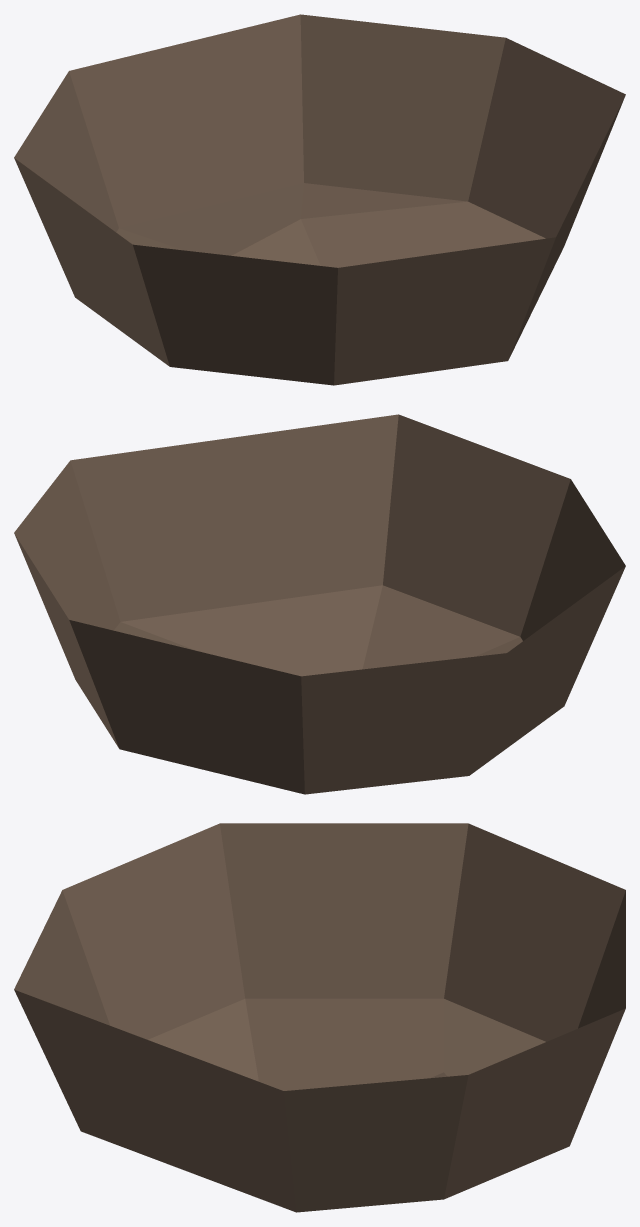
File: Colonne_Pierre.FBX
The picture shows the model from 3 angles, top to bottom: view 1: azimuth 30°, elevation 25°; view 2: azimuth 150°, elevation 25°; view 3: azimuth 270°, elevation 25°; orthographic projection. The views are drawn at different scales.
Visible parts, largest first — view 1: Colonne_Pierre; view 2: Colonne_Pierre; view 3: Colonne_Pierre.
Boxes of the visible parts, box(x1,y1,x2,y2) form: Colonne_Pierre: box(14, 14, 625, 385); Colonne_Pierre: box(14, 414, 625, 794); Colonne_Pierre: box(14, 823, 625, 1212).
Bounding box in the file's own units: 56.2 × 19.17 × 54.3.
Materials: 1 (1 with a texture image).
